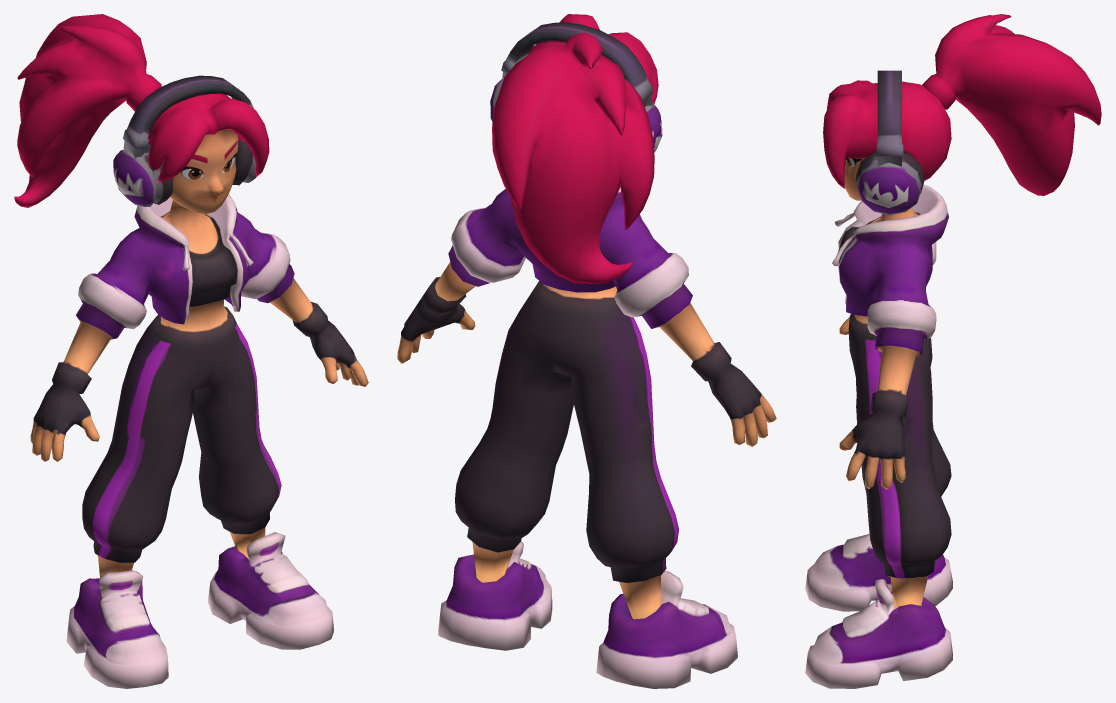
The model's file is sprinter.glb.
The picture shows the model from 3 angles, left to right: view 1: azimuth 30°, elevation 25°; view 2: azimuth 150°, elevation 25°; view 3: azimuth 270°, elevation 25°; orthographic projection. The views are drawn at different scales.
Parts seen in each view (by area): view 1: tripo_node_5fad4539-0b40-426e-a348-dce0ac56a0b9; view 2: tripo_node_5fad4539-0b40-426e-a348-dce0ac56a0b9; view 3: tripo_node_5fad4539-0b40-426e-a348-dce0ac56a0b9.
Part boxes in pixels (x1,y1,x2,y2): tripo_node_5fad4539-0b40-426e-a348-dce0ac56a0b9: (14, 14, 368, 688); tripo_node_5fad4539-0b40-426e-a348-dce0ac56a0b9: (397, 14, 776, 688); tripo_node_5fad4539-0b40-426e-a348-dce0ac56a0b9: (805, 14, 1101, 688).
Bounding box in the file's own units: 0.5645 × 0.998 × 0.4551.
1 material, 1 textured.
